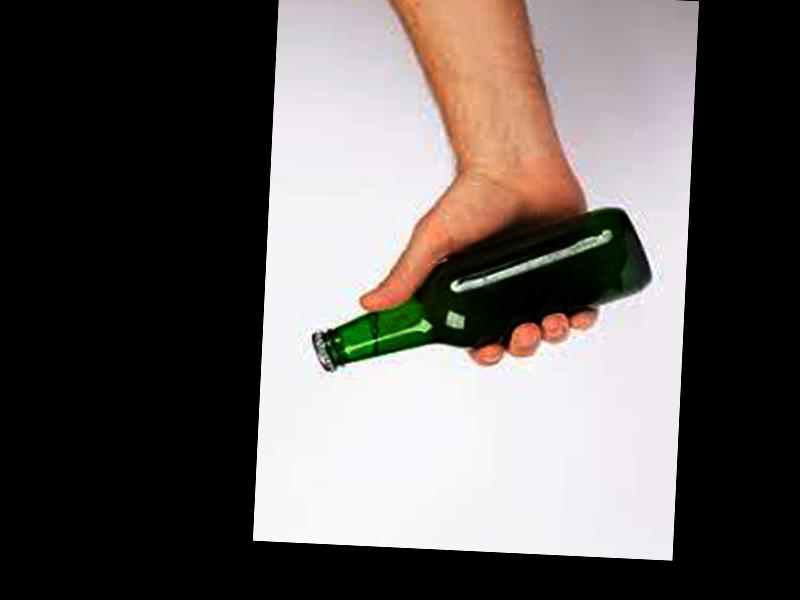Beer: (308, 193, 651, 385)
